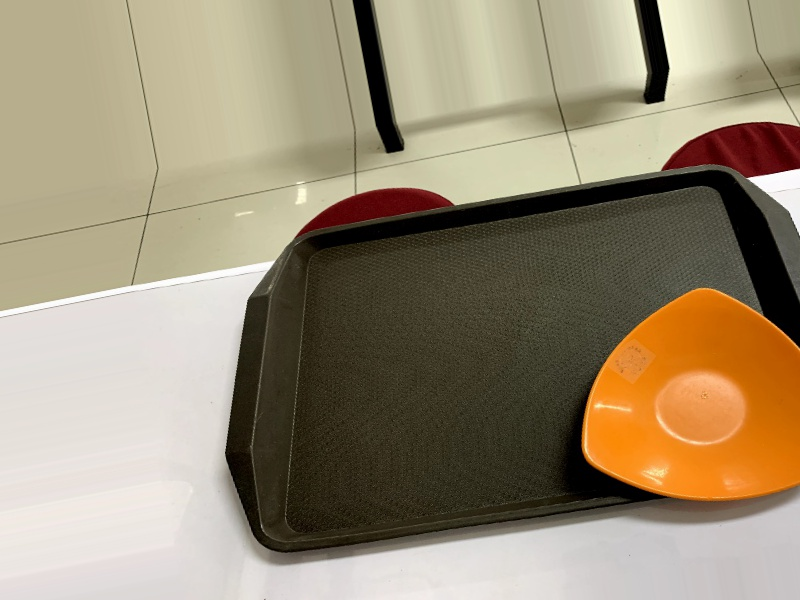dish11: (550, 262, 799, 536)
